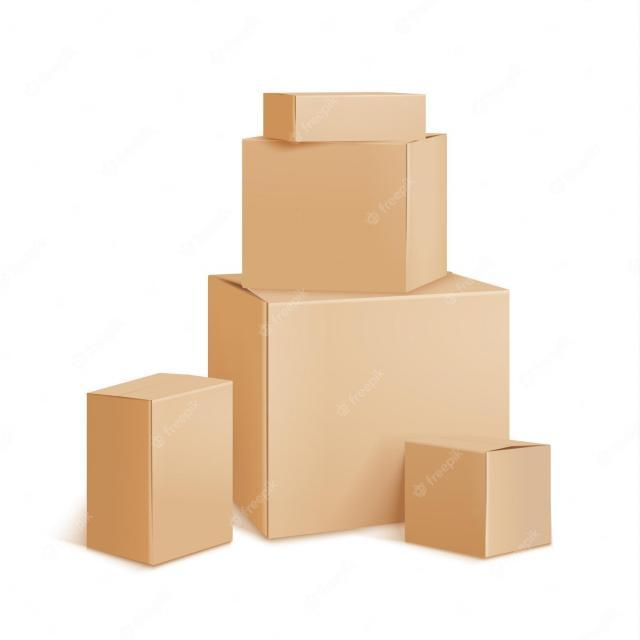box: (206, 271, 512, 543), (240, 132, 449, 292), (85, 372, 234, 567), (402, 436, 554, 559), (261, 91, 427, 145)
